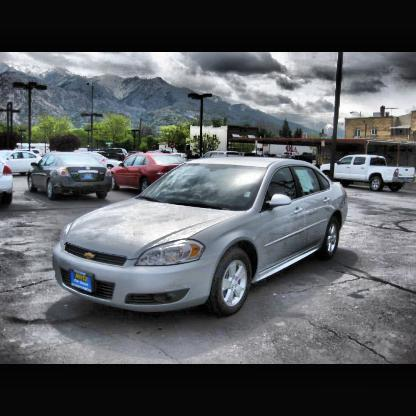Chevrolet Impala Sedan 2007: (55, 154, 352, 314)
